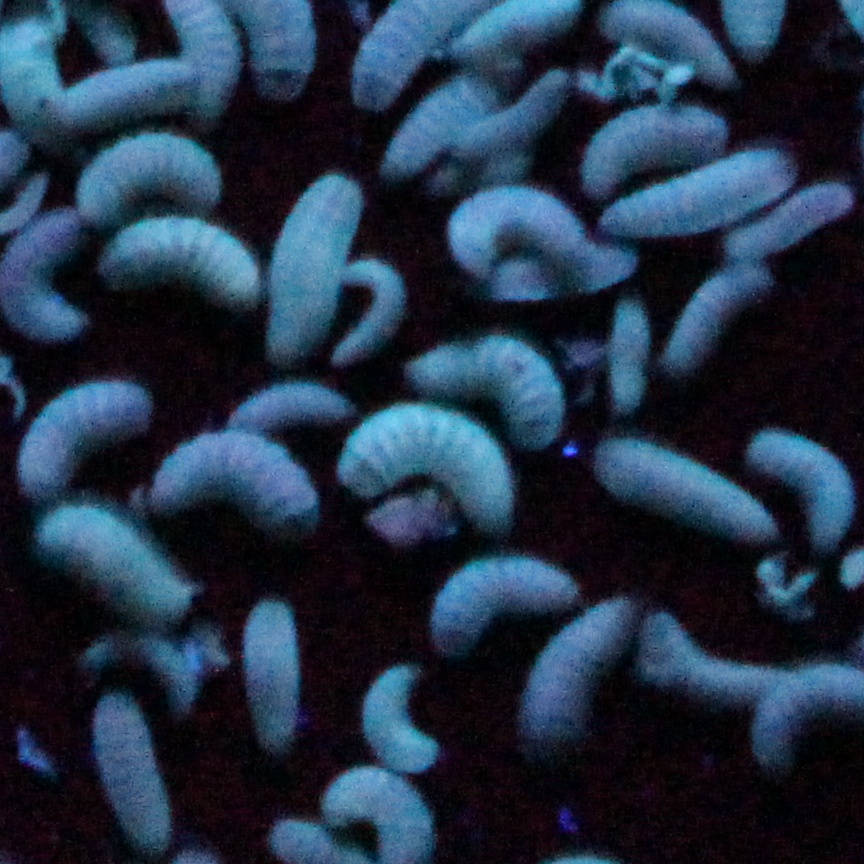larve: (341, 403, 515, 524), (592, 444, 776, 547), (145, 428, 325, 531), (41, 507, 192, 619), (408, 340, 564, 444), (269, 175, 358, 353), (602, 148, 792, 230), (17, 380, 148, 498), (95, 221, 266, 308), (436, 185, 585, 281), (521, 604, 621, 740), (86, 685, 166, 849), (638, 608, 772, 699), (374, 76, 495, 173), (77, 139, 223, 219), (435, 558, 569, 644), (584, 111, 718, 193), (759, 429, 844, 555), (320, 767, 433, 857), (54, 60, 205, 124), (477, 245, 636, 303), (669, 271, 758, 370), (359, 659, 435, 770), (728, 186, 853, 253), (245, 601, 296, 746), (451, 78, 561, 142), (343, 255, 400, 365), (603, 304, 651, 408), (221, 383, 353, 417)
